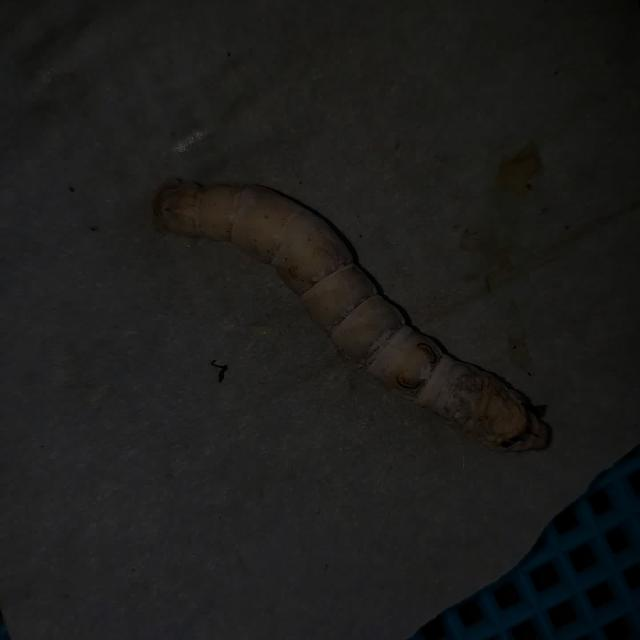Grasserie: (148, 164, 560, 476)
